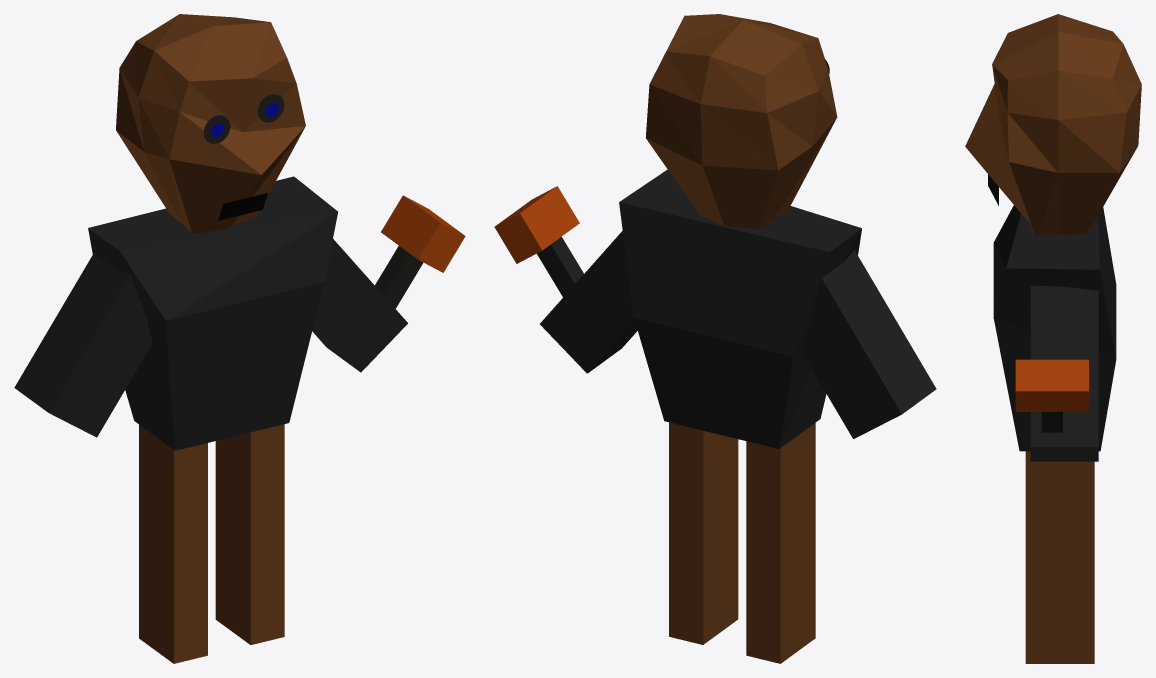
The model's file is servant1.obj.
The picture shows the model from 3 angles, left to right: view 1: azimuth 30°, elevation 25°; view 2: azimuth 150°, elevation 25°; view 3: azimuth 270°, elevation 25°; orthographic projection.
Visible parts, largest first — view 1: Cube.001, Cube, Cube.004, Cube.005, Cube.003, Cube.002, Cube.008, Cube.007, Plane; view 2: Cube.001, Cube, Cube.004, Cube.005, Cube.003, Cube.002, Cube.008, Cube.007; view 3: Cube, Cube.005, Cube.001, Cube.002, Cube.008, Cube.007.
Boxes of the visible parts, bbox=[...] form: Cube.001: bbox=[88, 176, 337, 450]; Cube: bbox=[116, 14, 305, 233]; Cube.004: bbox=[139, 424, 207, 663]; Cube.005: bbox=[215, 424, 284, 644]; Cube.003: bbox=[14, 253, 152, 437]; Cube.002: bbox=[312, 239, 407, 372]; Cube.008: bbox=[381, 195, 465, 272]; Cube.007: bbox=[375, 246, 423, 308]; Plane: bbox=[218, 193, 267, 220]; Cube.001: bbox=[619, 169, 861, 448]; Cube: bbox=[645, 14, 837, 229]; Cube.004: bbox=[746, 423, 815, 663]; Cube.005: bbox=[669, 422, 738, 644]; Cube.003: bbox=[801, 250, 936, 438]; Cube.002: bbox=[540, 231, 637, 373]; Cube.008: bbox=[494, 186, 579, 263]; Cube.007: bbox=[537, 236, 583, 297]; Cube: bbox=[965, 14, 1141, 235]; Cube.005: bbox=[1025, 451, 1094, 663]; Cube.001: bbox=[993, 205, 1116, 451]; Cube.002: bbox=[1030, 285, 1098, 461]; Cube.008: bbox=[1015, 359, 1089, 411]; Cube.007: bbox=[1041, 411, 1062, 432].
Bounding box in the file's own units: 4.16 × 5.95 × 1.57.
